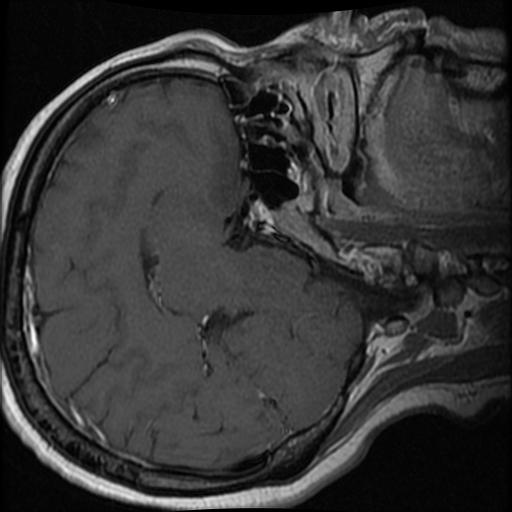pituitary tumour: (249, 199, 275, 226)
